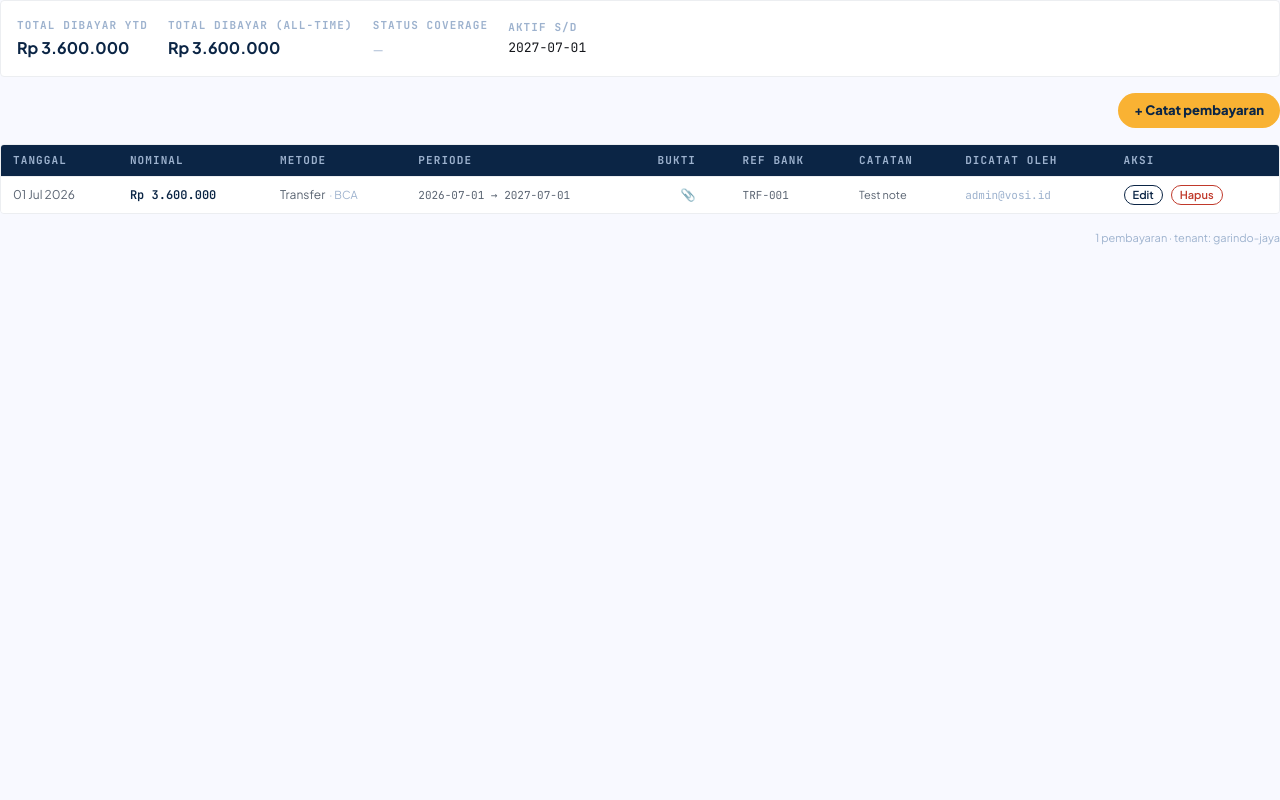
PembayaranTab › opens delete confirmation dialog when Hapus clicked
Click the button "Hapus".
click(1197, 195)  # box [1171,185,1223,205]
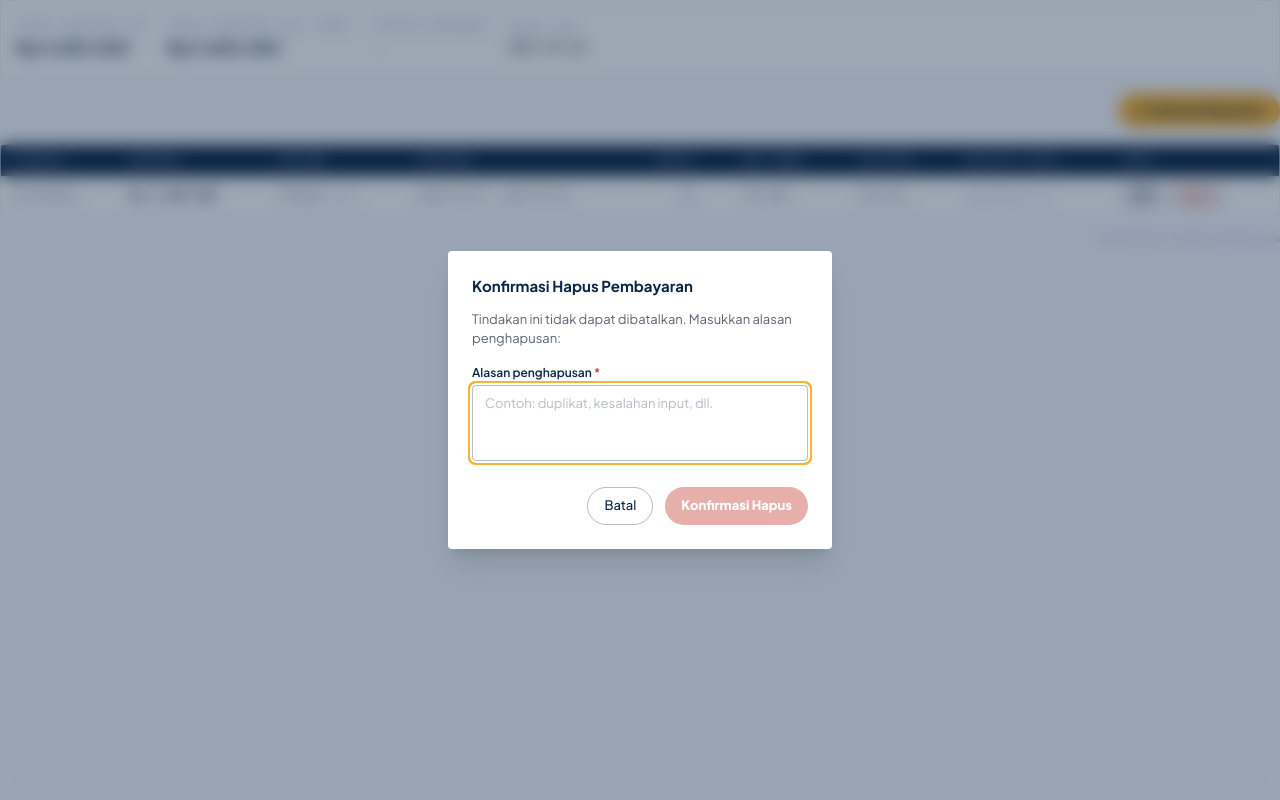
Expected: the dialog with test id "delete-payment-dialog" is shown
